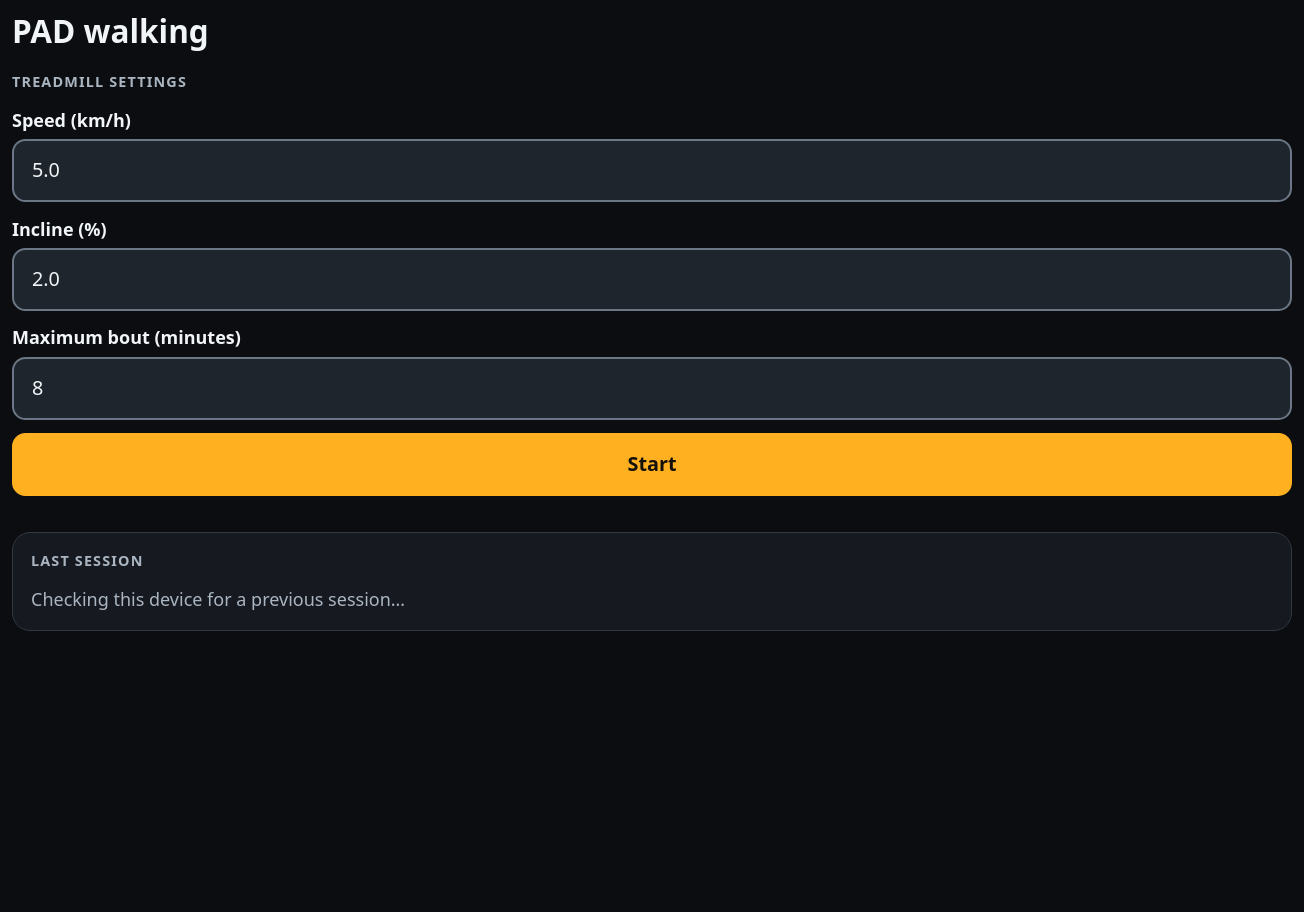
Test: PAD start screen › refuses a maximum bout that rounds to zero seconds, and says why
Replace the text in the number field labelled "Maximum bout (minutes)" with "0.001" at (652, 388), box [12,357,1292,420]
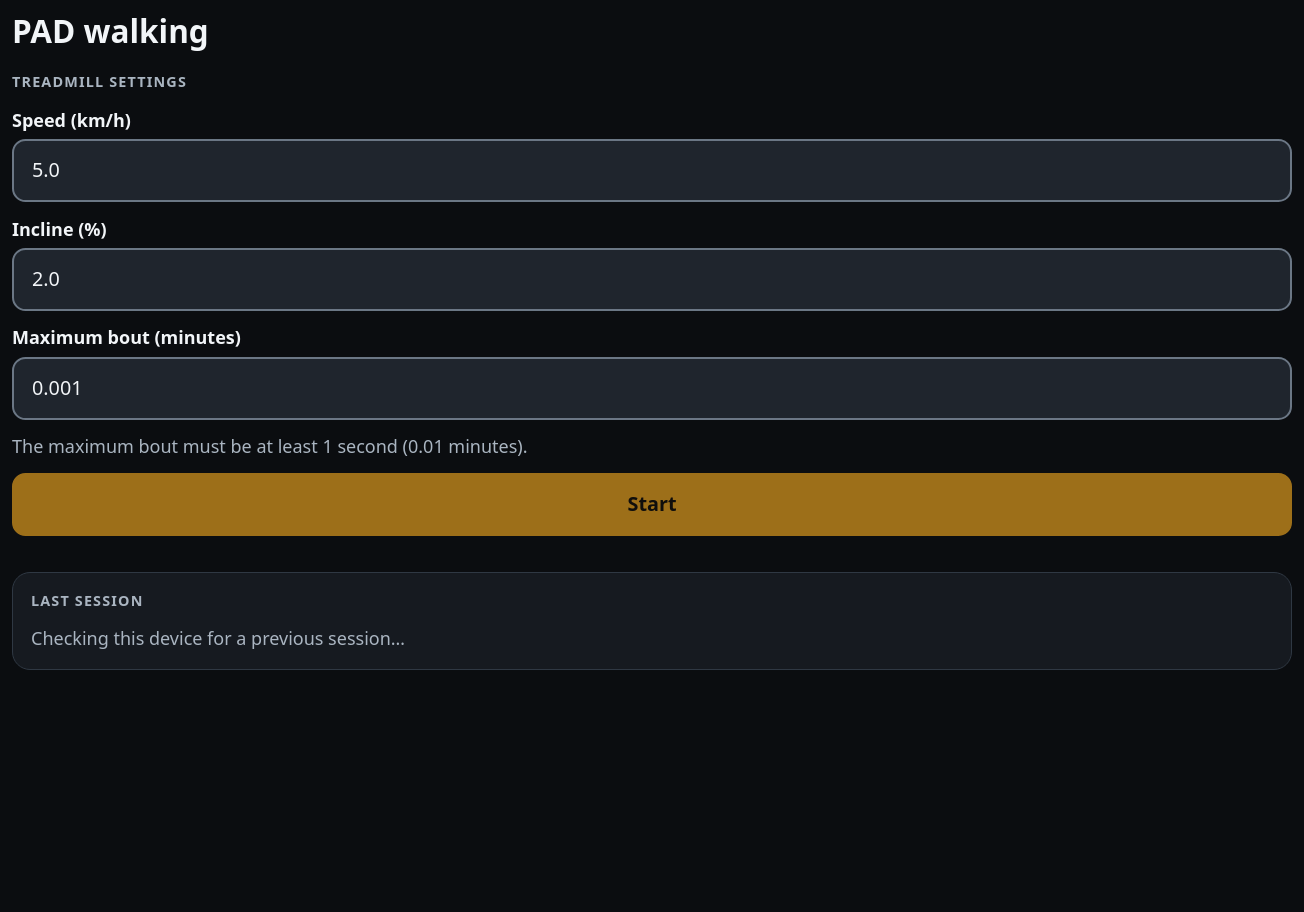
Expected: the button "Start" is disabled, [12,473,1292,536]
Expected: the text "The maximum bout must be at least 1 second (0.01 minutes)." is shown, [12,434,528,458]
Replace the text in the number field labelled "Maximum bout (minutes)" with "0.01" at (652, 388), box [12,357,1292,420]
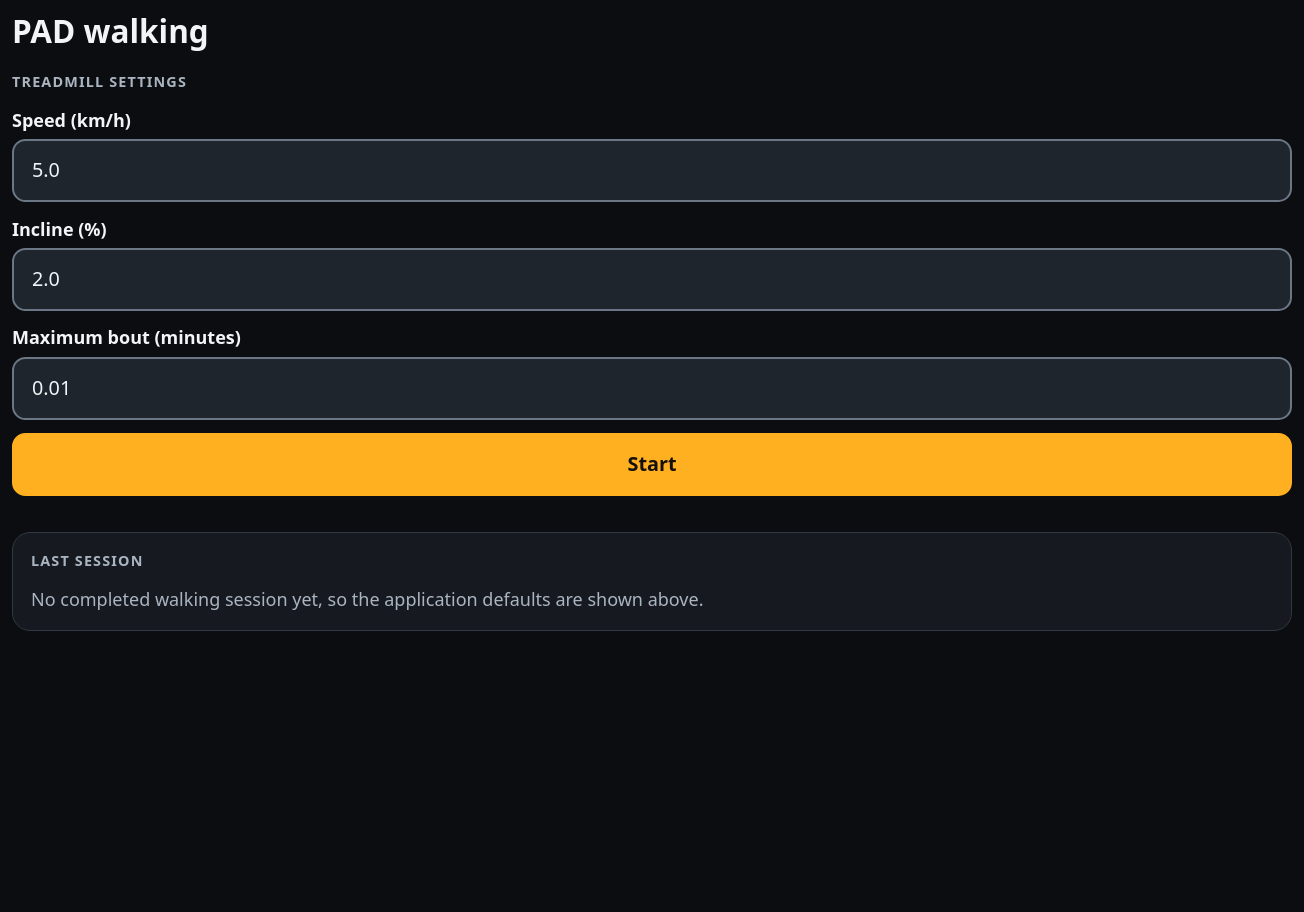
Expected: the button "Start" is enabled, [12,433,1292,496]
